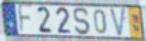0: (92, 8, 109, 36)
2: (55, 5, 74, 36), (36, 5, 54, 35)
F: (17, 3, 34, 36)
S: (73, 7, 92, 37)
V: (109, 7, 127, 39)
